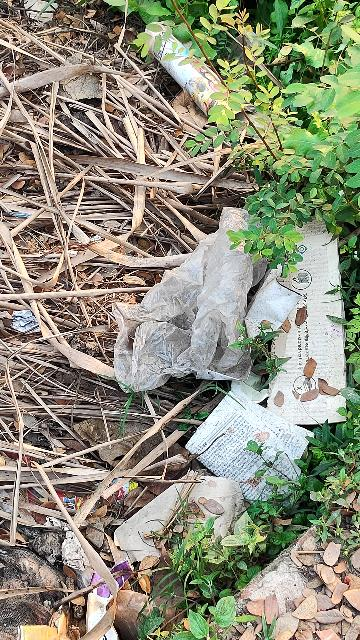polythene: (103, 197, 285, 396)
